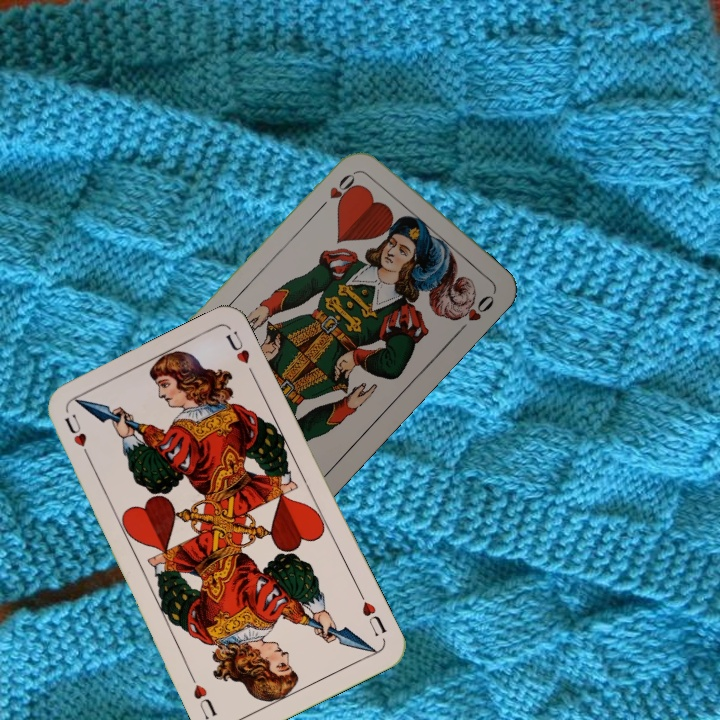HO: (315, 166, 362, 212)
HU: (354, 587, 389, 640), (60, 410, 94, 464)
